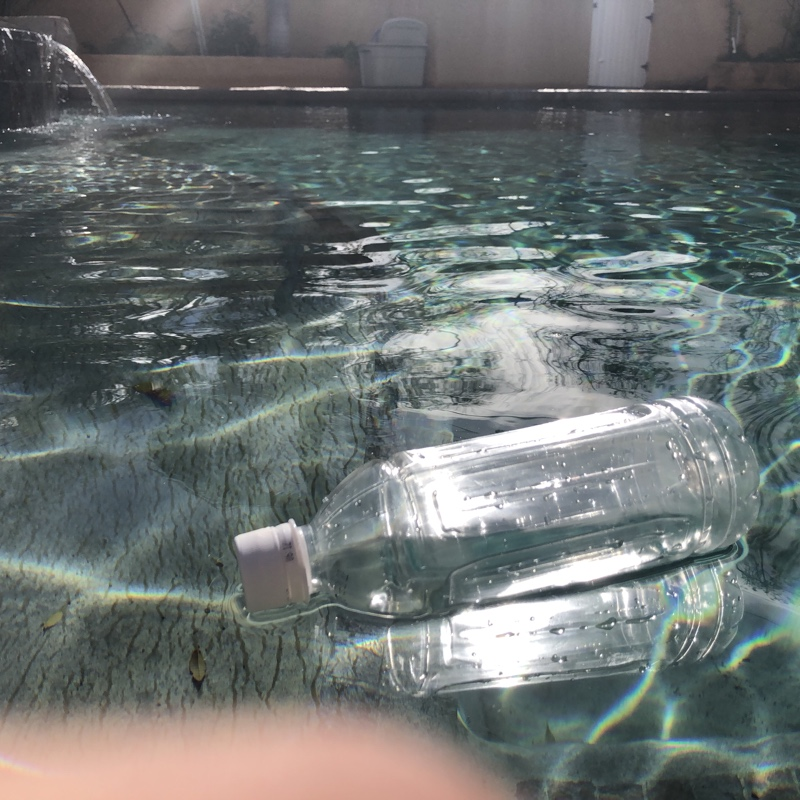Plastic Bottle: (226, 389, 768, 627)
